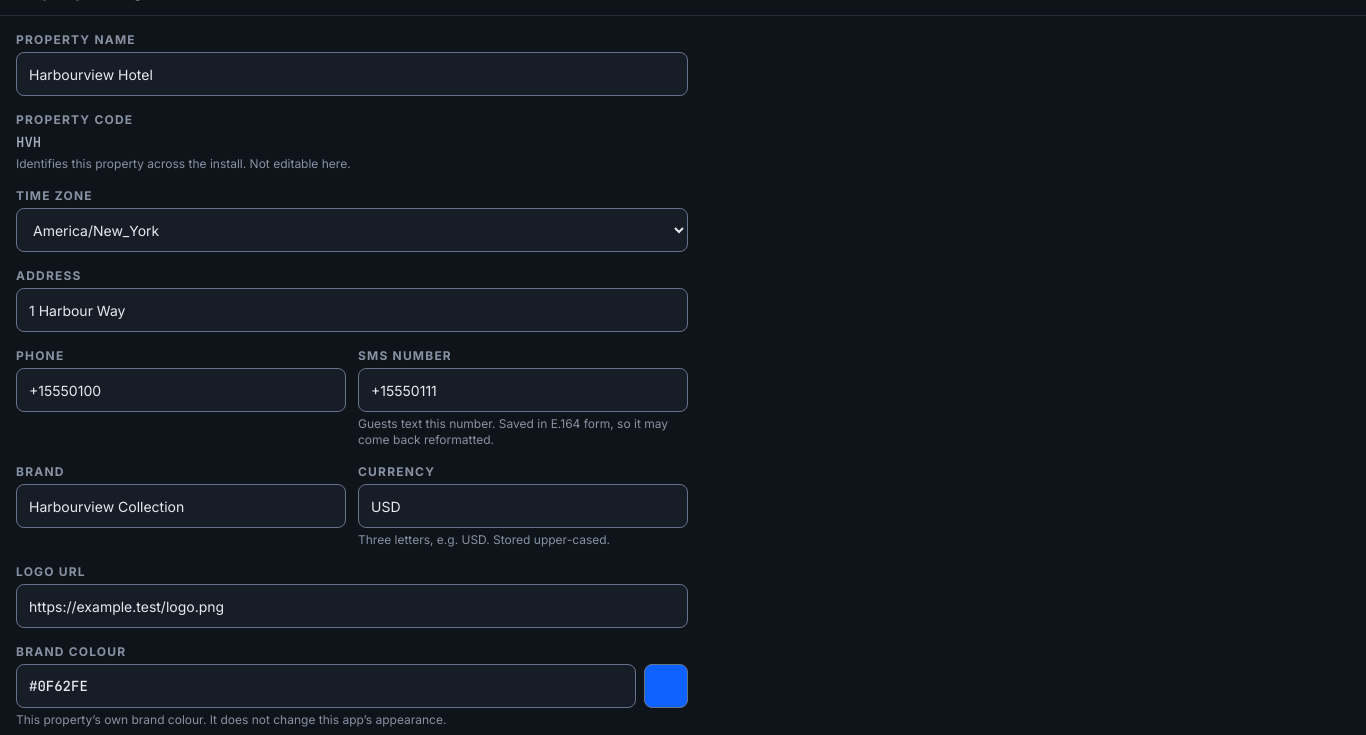
PropertySettingsAdmin › reverts the form to the stored record
Replace the text in the field labelled "Property name" with "Something else" at (352, 74), box [16,52,688,96]
(page scrolled)
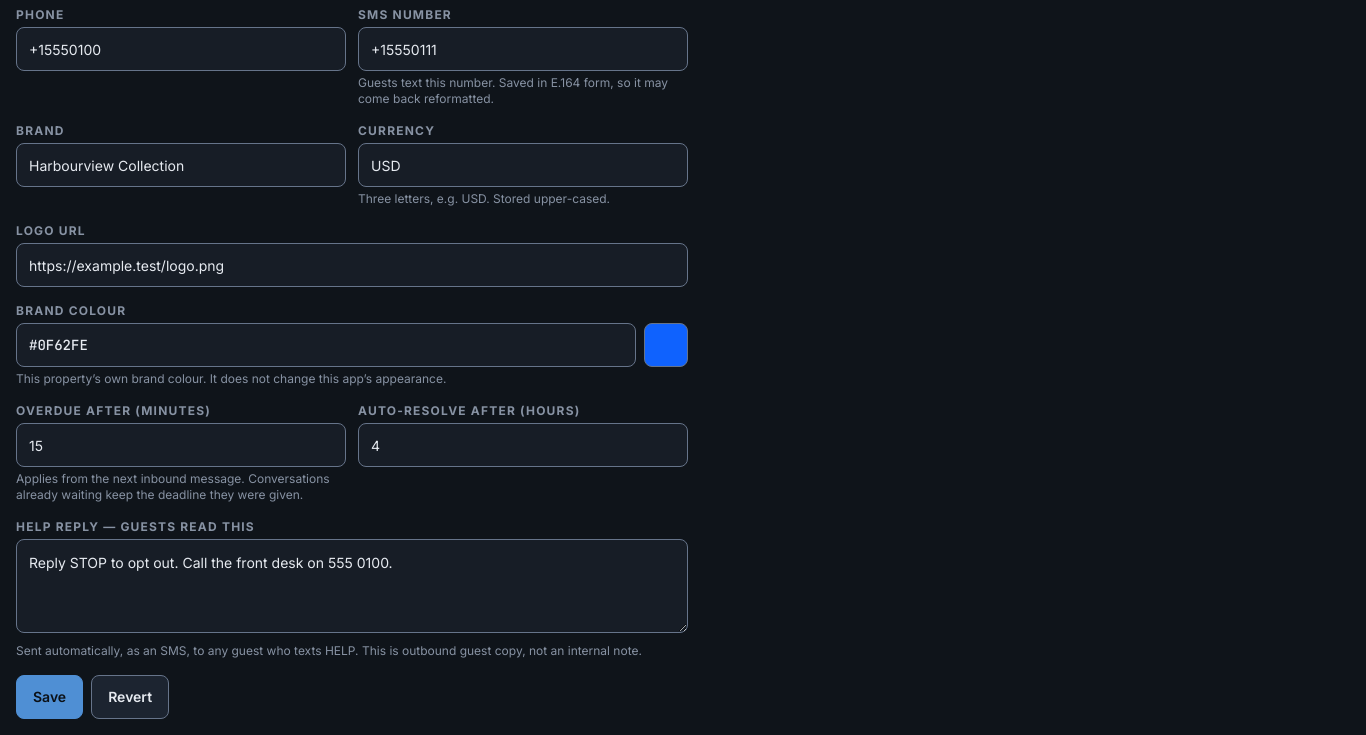
Click the button "Revert".
click(130, 697)  # box [91,675,169,719]
(page scrolled)
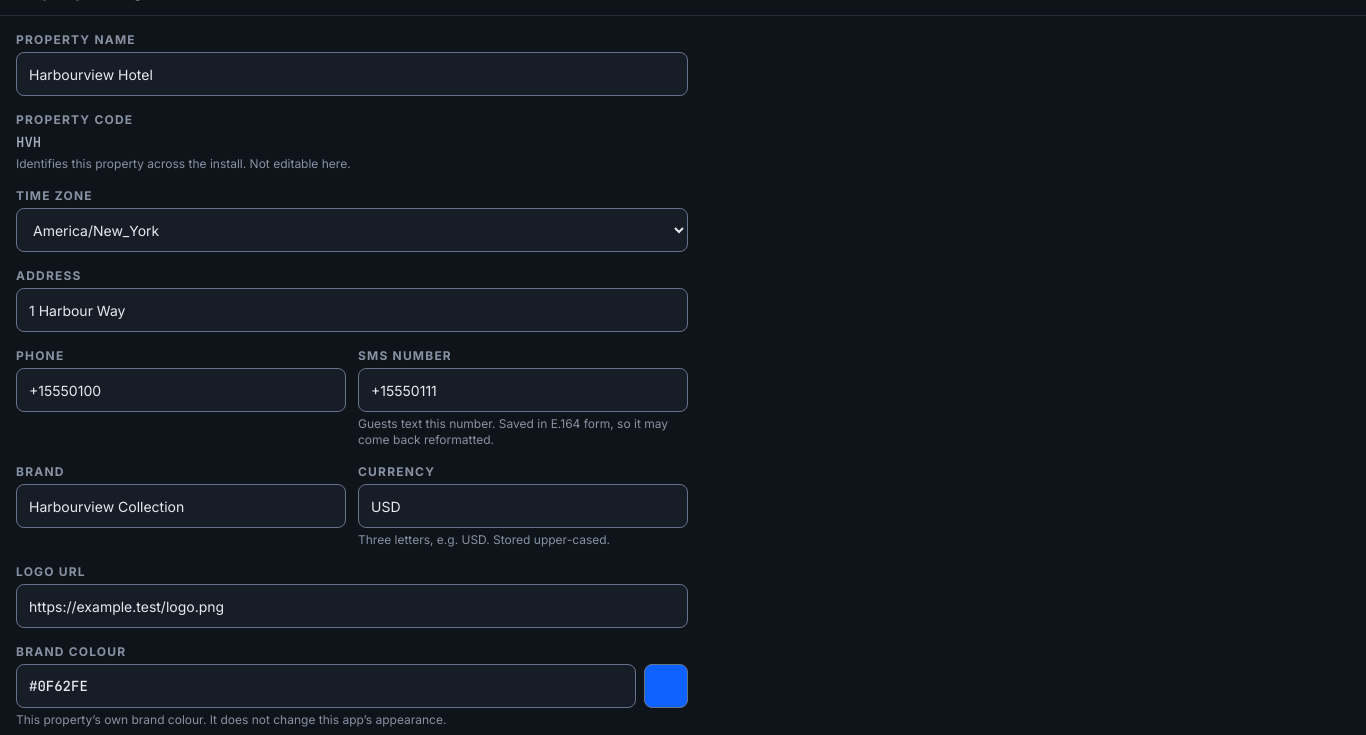
Now the field labelled "Property name" holds "Harbourview Hotel", box [16,52,688,96]
